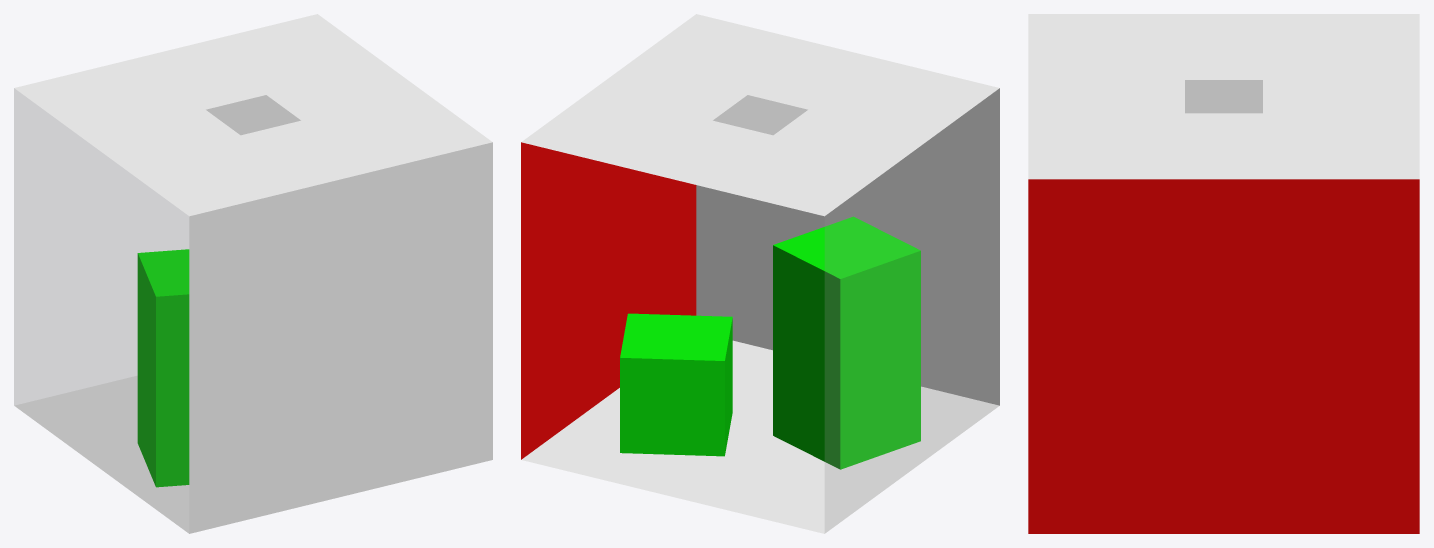
Rendered from cornell_box.obj.
3 views of the same model, side by side, from view 1: azimuth 30°, elevation 25°; view 2: azimuth 150°, elevation 25°; view 3: azimuth 270°, elevation 25° (orthographic). The views are drawn at different scales.
Parts seen in each view (by area): view 1: Plane.003, Plane.002, Plane.004, Cube.003, Plane, Plane.005; view 2: Plane.002, Plane.004, Plane.003, Plane.001, Cube.003, Plane, Cube.002, Plane.005; view 3: Plane.001, Plane.004, Plane.005.
Boxes of the visible parts, box(x1,y1,x2,y2) form: Plane.003: box(189, 142, 492, 533); Plane.002: box(14, 88, 188, 532); Plane.004: box(14, 14, 492, 216); Cube.003: box(137, 249, 189, 487); Plane: box(14, 375, 189, 533); Plane.005: box(206, 95, 300, 135); Plane.002: box(825, 88, 999, 532); Plane.004: box(521, 14, 999, 216); Plane.003: box(696, 88, 999, 405); Plane.001: box(521, 142, 696, 459); Cube.003: box(773, 216, 920, 469); Plane: box(521, 340, 999, 533); Cube.002: box(620, 313, 732, 456); Plane.005: box(713, 95, 807, 135); Plane.001: box(1028, 179, 1419, 533); Plane.004: box(1028, 14, 1419, 179); Plane.005: box(1185, 80, 1262, 113).
Bounding box in the file's own units: 5 × 5 × 5.
